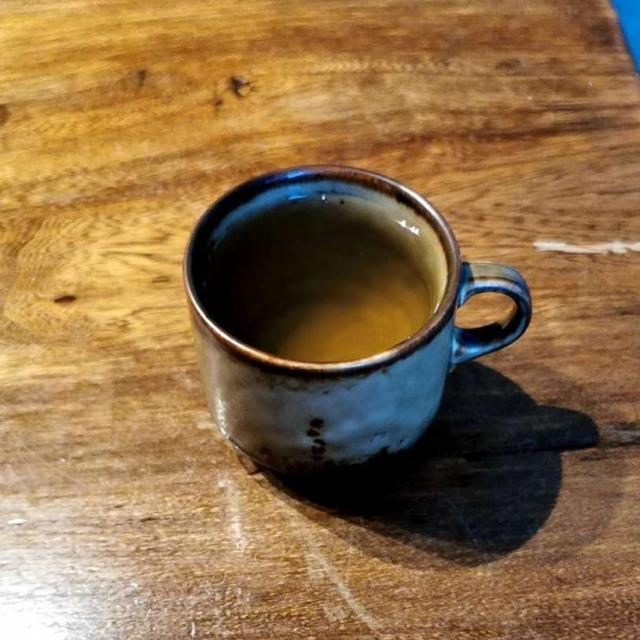tea: (208, 203, 433, 365), (207, 208, 428, 363)
